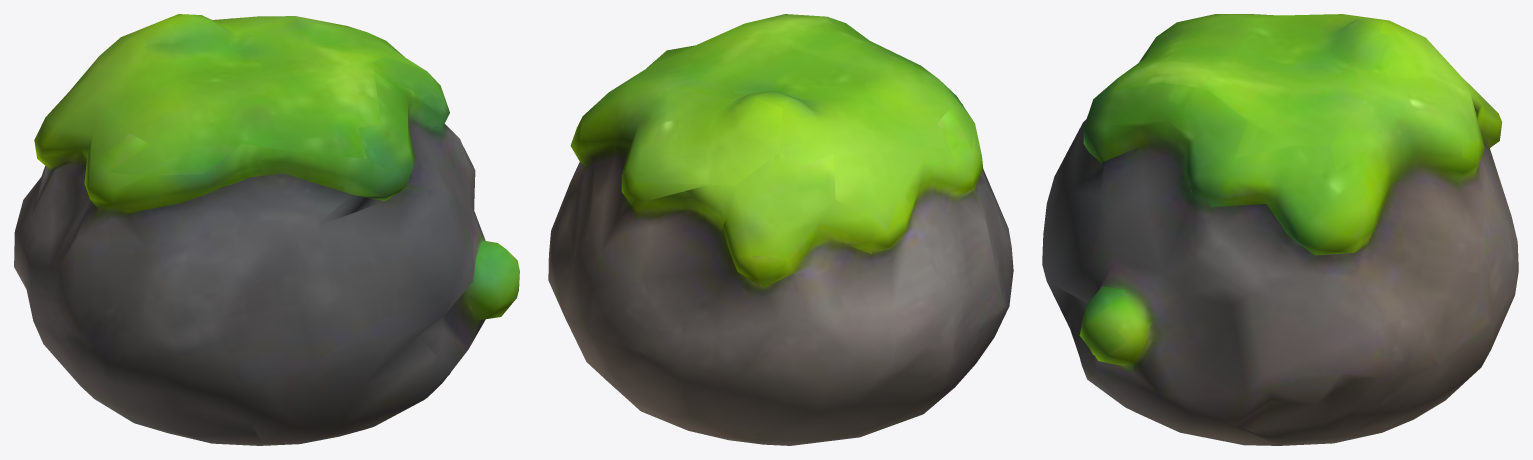
Rendered from sz-boulder-a.glb.
3 views of the same model, side by side, from view 1: azimuth 30°, elevation 25°; view 2: azimuth 150°, elevation 25°; view 3: azimuth 270°, elevation 25° (orthographic). The views are drawn at different scales.
Parts seen in each view (by area): view 1: geometry_0; view 2: geometry_0; view 3: geometry_0.
Boxes of the visible parts, x1,y1,x2,y2 form: geometry_0: (14, 14, 519, 445); geometry_0: (548, 14, 1013, 445); geometry_0: (1042, 14, 1518, 445).
Size of the model in its own units: 1 by 0.7939 by 0.9904.
Materials: 1 (1 with a texture image).
